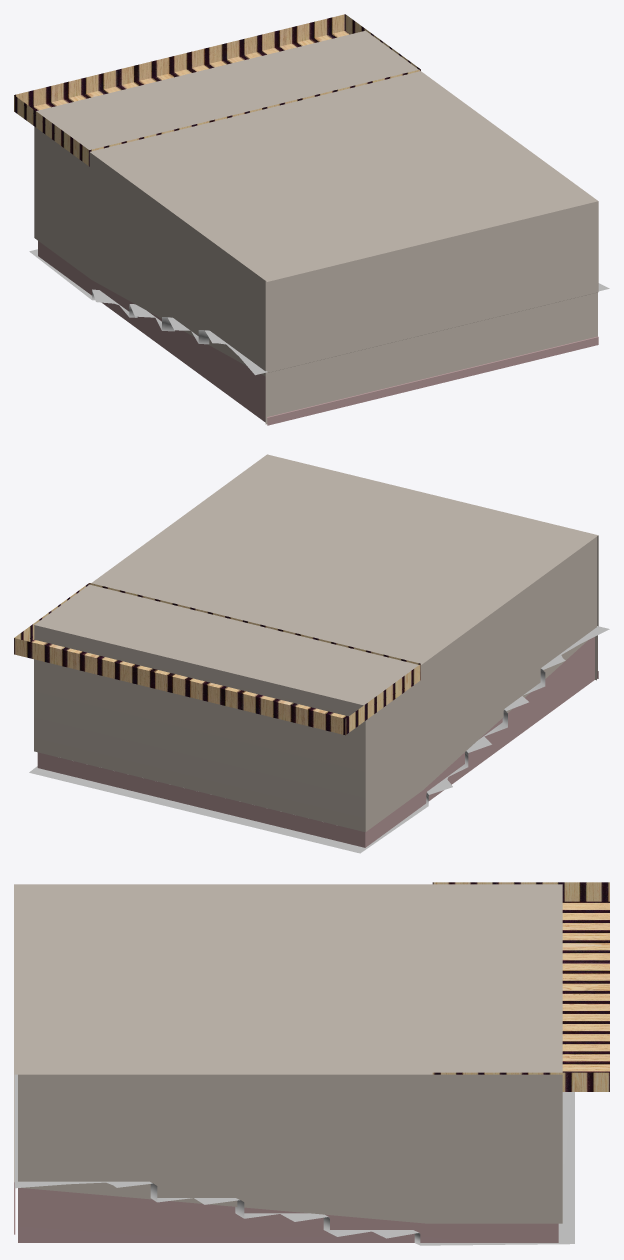
The model's file is MeshBaker (5)-mesh-mesh.fbx.
3 views of the same model, one above another, from view 1: azimuth 30°, elevation 25°; view 2: azimuth 150°, elevation 25°; view 3: azimuth 270°, elevation 25° (orthographic). The views are drawn at different scales.
Parts seen in each view (by area): view 1: MeshBaker__5__mesh_mesh; view 2: MeshBaker__5__mesh_mesh; view 3: MeshBaker__5__mesh_mesh.
Part boxes in pixels (x1,y1,x2,y2): MeshBaker__5__mesh_mesh: (14, 14, 609, 425); MeshBaker__5__mesh_mesh: (14, 454, 609, 853); MeshBaker__5__mesh_mesh: (14, 882, 609, 1245).
Bounding box in the file's own units: 1721 × 670 × 2111.
